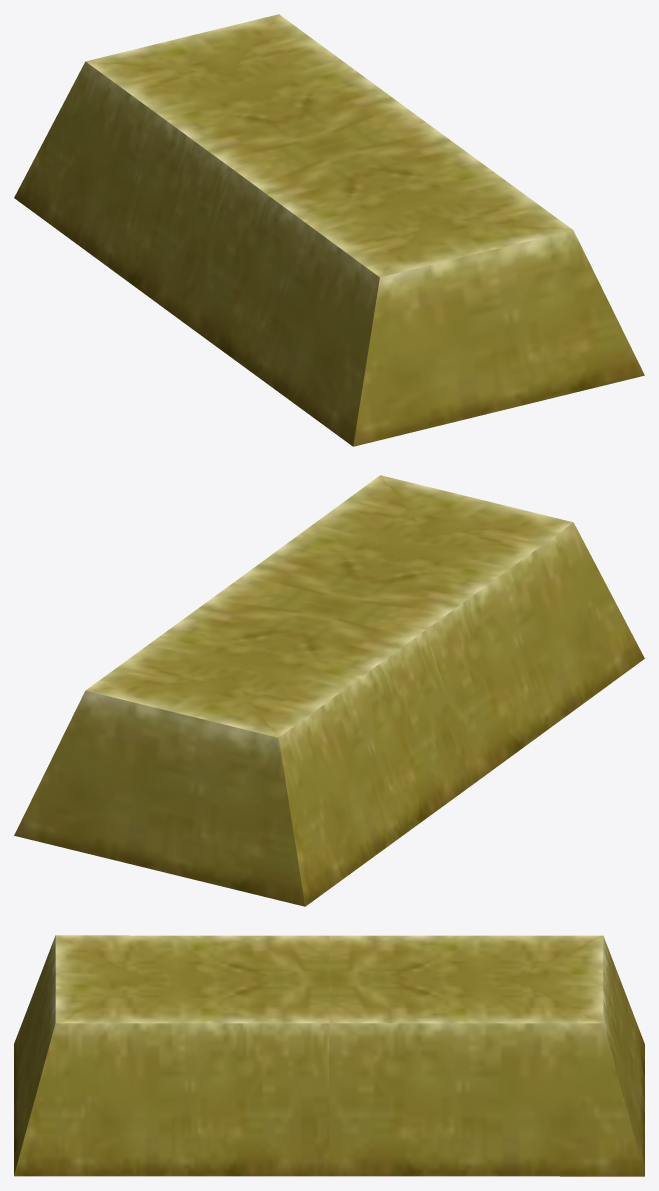
Rendered from GS_GOLDEN_BAR.glb.
3 renders of one model, top to bottom at view 1: azimuth 30°, elevation 25°; view 2: azimuth 150°, elevation 25°; view 3: azimuth 270°, elevation 25°, orthographic. The views are drawn at different scales.
Visible parts, largest first — view 1: GS_GOLDEN_BAR; view 2: GS_GOLDEN_BAR; view 3: GS_GOLDEN_BAR.
Boxes of the visible parts, box(x1,y1,x2,y2) form: GS_GOLDEN_BAR: box(14, 14, 644, 446); GS_GOLDEN_BAR: box(14, 475, 644, 906); GS_GOLDEN_BAR: box(14, 935, 644, 1176).
Size of the model in its own units: 0.1875 by 0.0864 by 0.3774.
Materials: 1 (1 with a texture image).
